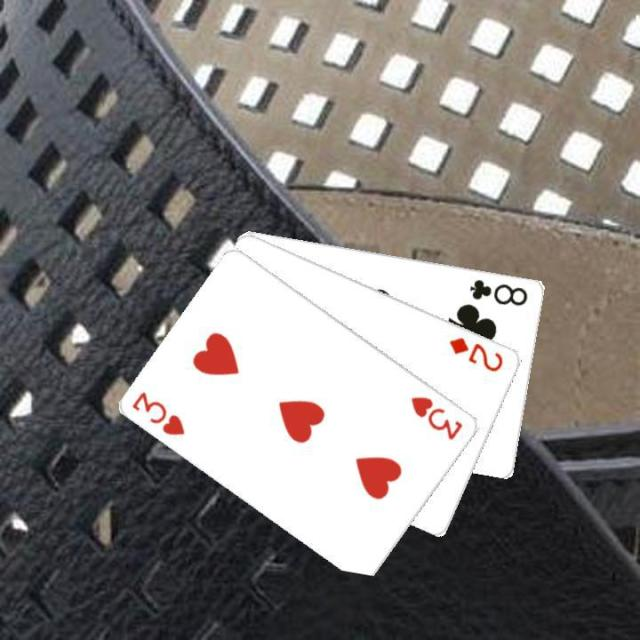2D: (445, 334, 506, 374)
3H: (128, 388, 188, 438), (407, 392, 465, 442)
8C: (466, 274, 530, 308)
